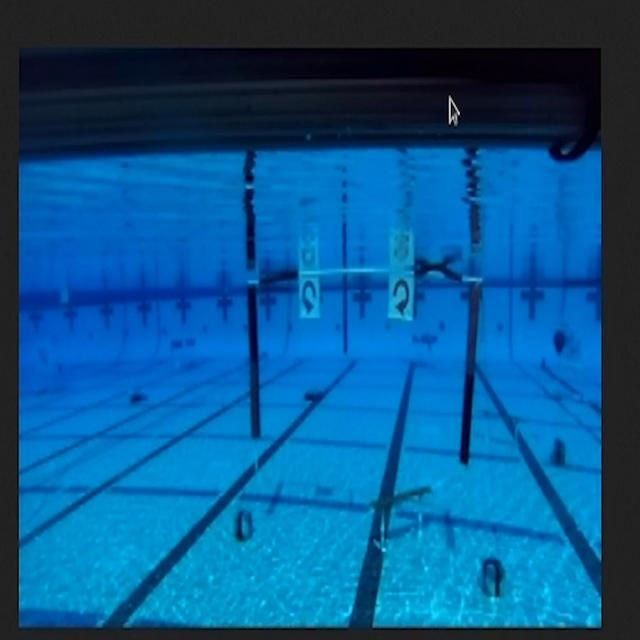Gate: (242, 265, 488, 473)
